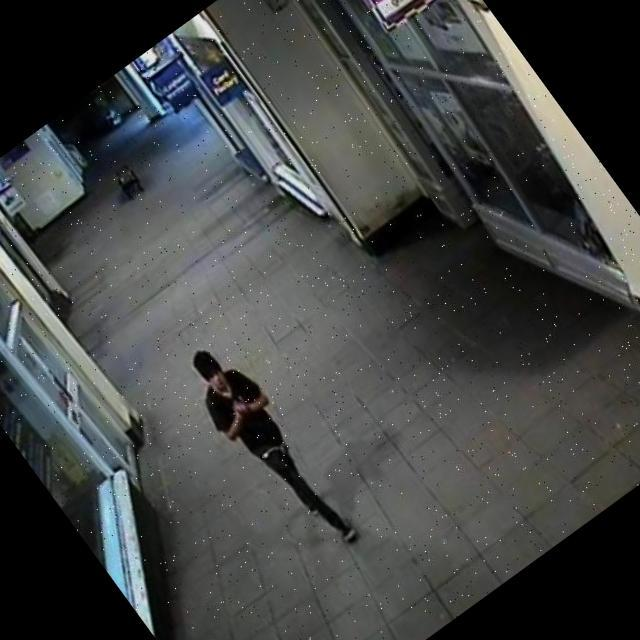person: (140, 300, 382, 592)
